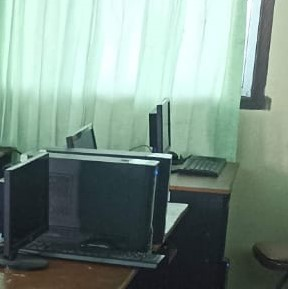monitor: (16, 148, 164, 270), (1, 151, 50, 260), (148, 98, 171, 153), (66, 122, 98, 149)
